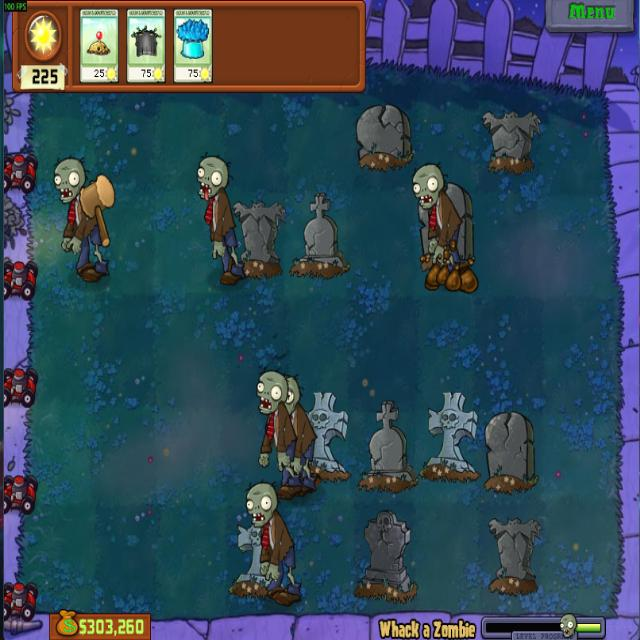grave: (420, 392, 481, 482), (356, 512, 416, 600), (295, 392, 353, 482), (359, 400, 413, 492), (291, 193, 346, 279), (483, 407, 536, 495), (231, 199, 287, 280), (420, 187, 476, 267), (484, 516, 541, 594), (481, 104, 542, 172), (353, 104, 413, 170), (235, 512, 274, 594)
gravebuster: (126, 10, 166, 83)
zombie: (51, 150, 88, 207), (189, 155, 232, 203), (408, 163, 449, 211), (243, 480, 280, 528), (254, 368, 288, 416), (276, 371, 299, 416)
